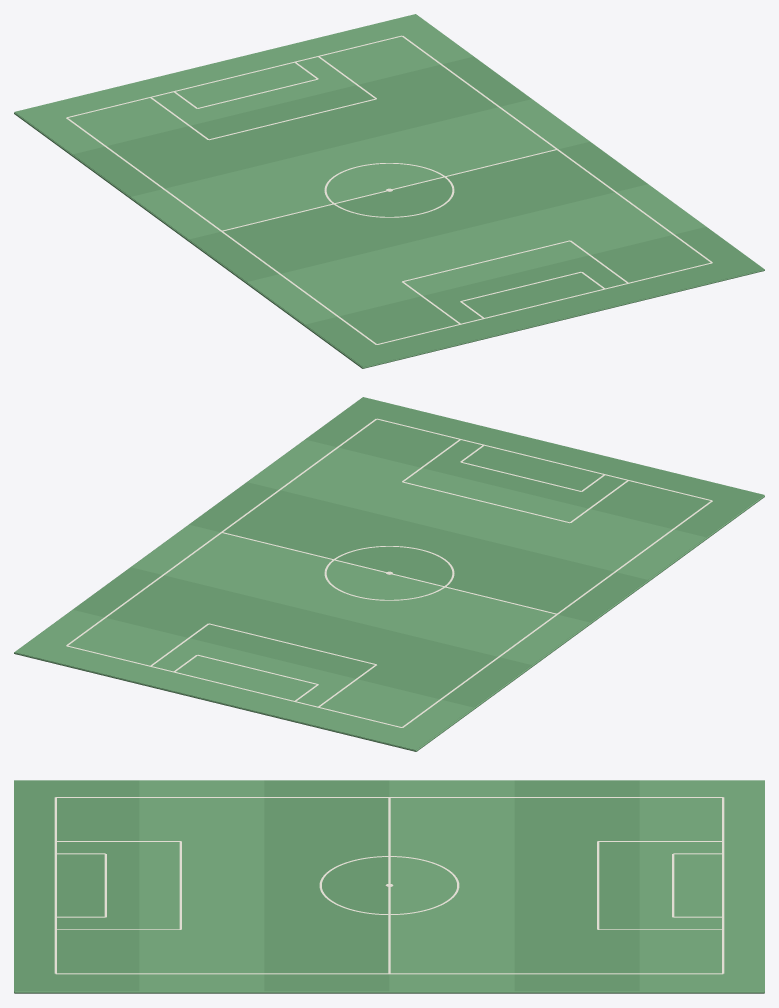
The model's file is soccer_pitch.glb.
3 renders of one model, top to bottom at view 1: azimuth 30°, elevation 25°; view 2: azimuth 150°, elevation 25°; view 3: azimuth 270°, elevation 25°, orthographic. The views are drawn at different scales.
Parts seen in each view (by area): view 1: soccer_pitch_Mesh; view 2: soccer_pitch_Mesh; view 3: soccer_pitch_Mesh.
Part boxes in pixels (x1,y1,x2,y2): soccer_pitch_Mesh: (14,14,764,368); soccer_pitch_Mesh: (14,397,764,751); soccer_pitch_Mesh: (14,780,764,993).
Size of the model in its own units: 12 by 0.07 by 18.
